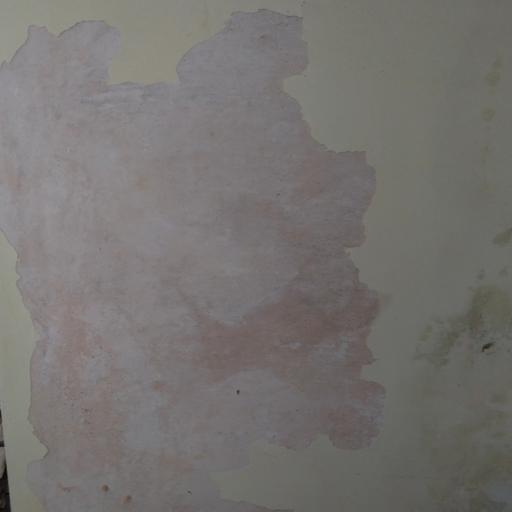peeling: (0, 0, 415, 503)
